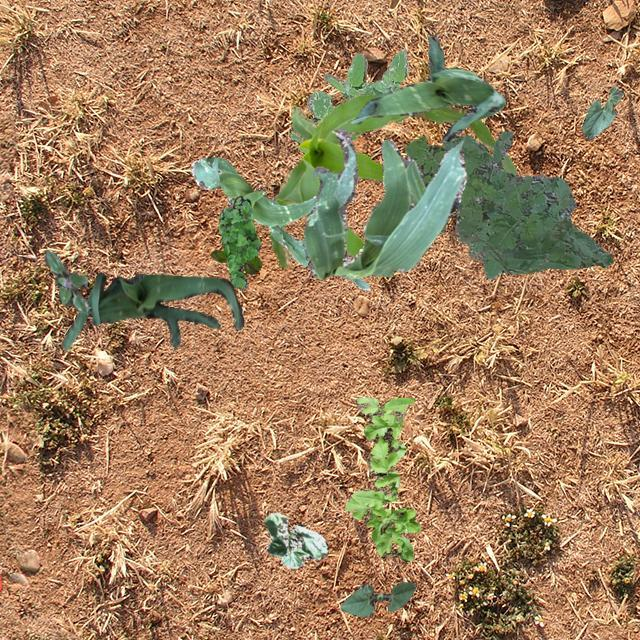crop: (268, 92, 516, 268), (302, 128, 466, 278), (190, 156, 368, 290), (350, 34, 504, 142), (61, 272, 242, 350), (264, 512, 326, 568), (340, 580, 414, 616), (582, 85, 622, 138)
weed: (403, 130, 612, 278), (344, 397, 418, 560), (288, 48, 408, 142), (218, 194, 260, 288), (44, 248, 88, 314), (210, 248, 260, 274)
